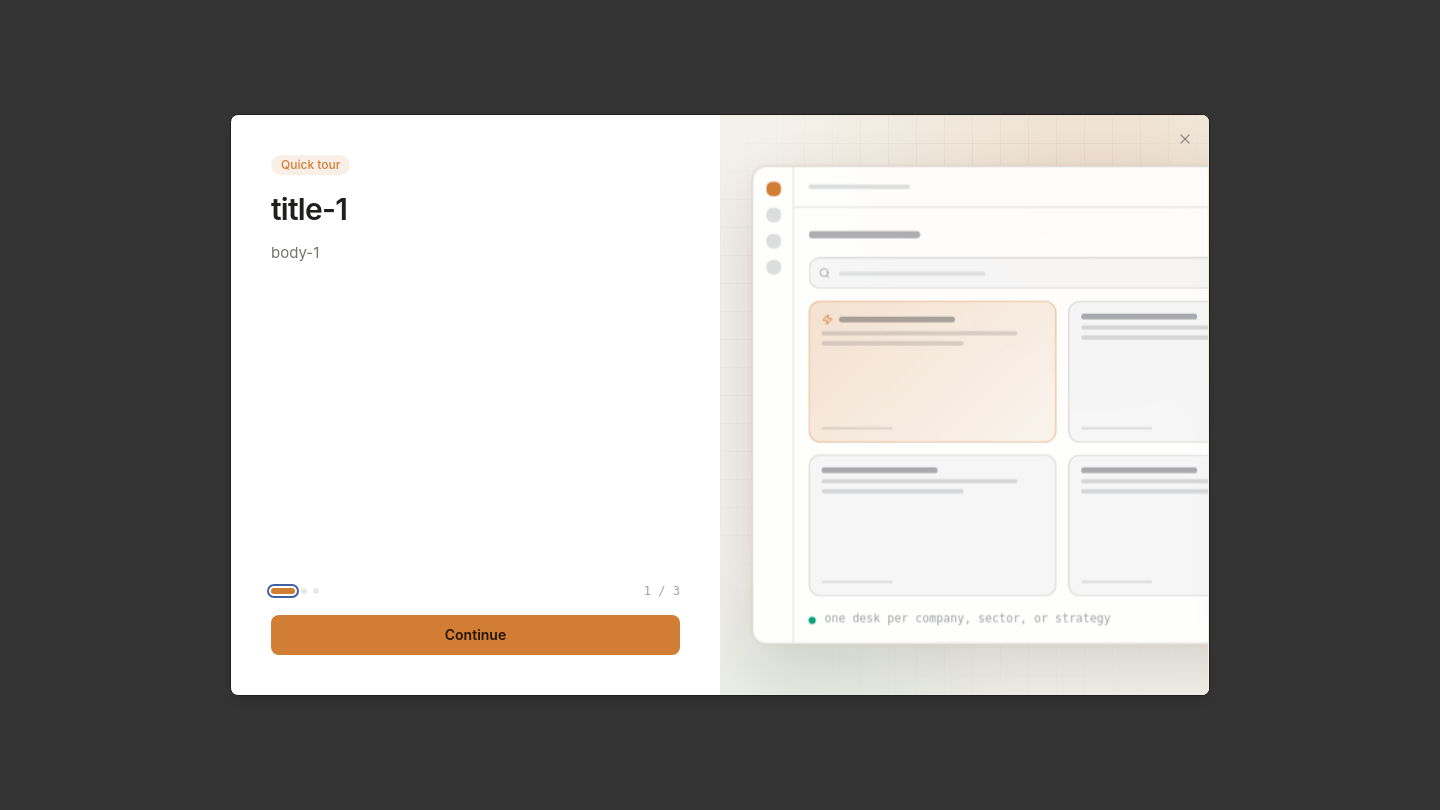
Test: PageIntroModal › Continue advances through steps and Back returns
Click the button "Continue": (476, 635) [271, 615, 680, 655]
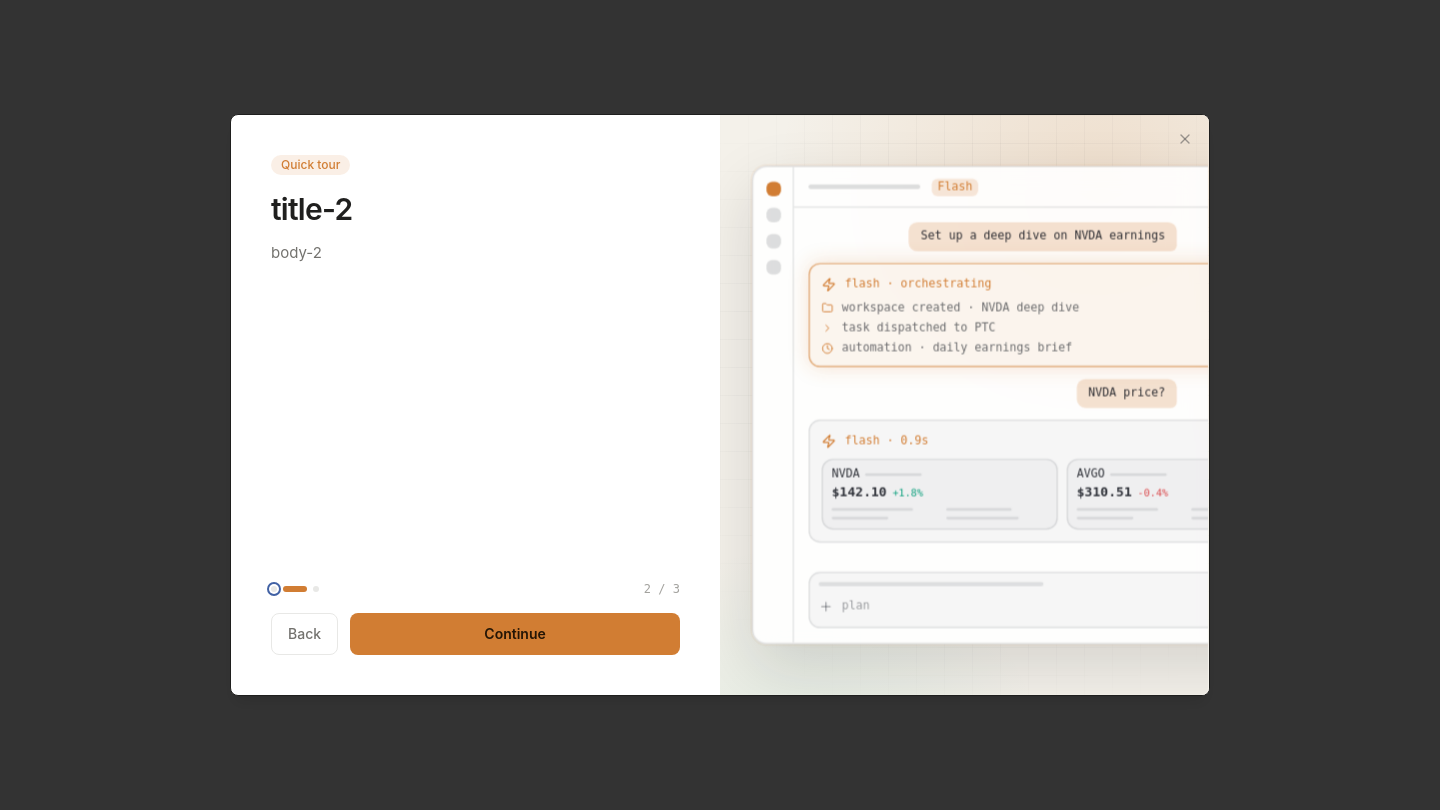
Result: the heading "title-2" is shown at [271, 191, 352, 227]
Result: the text "2 / 3" is shown at [644, 581, 680, 597]
Click the button "Back": (305, 634) [271, 613, 338, 655]
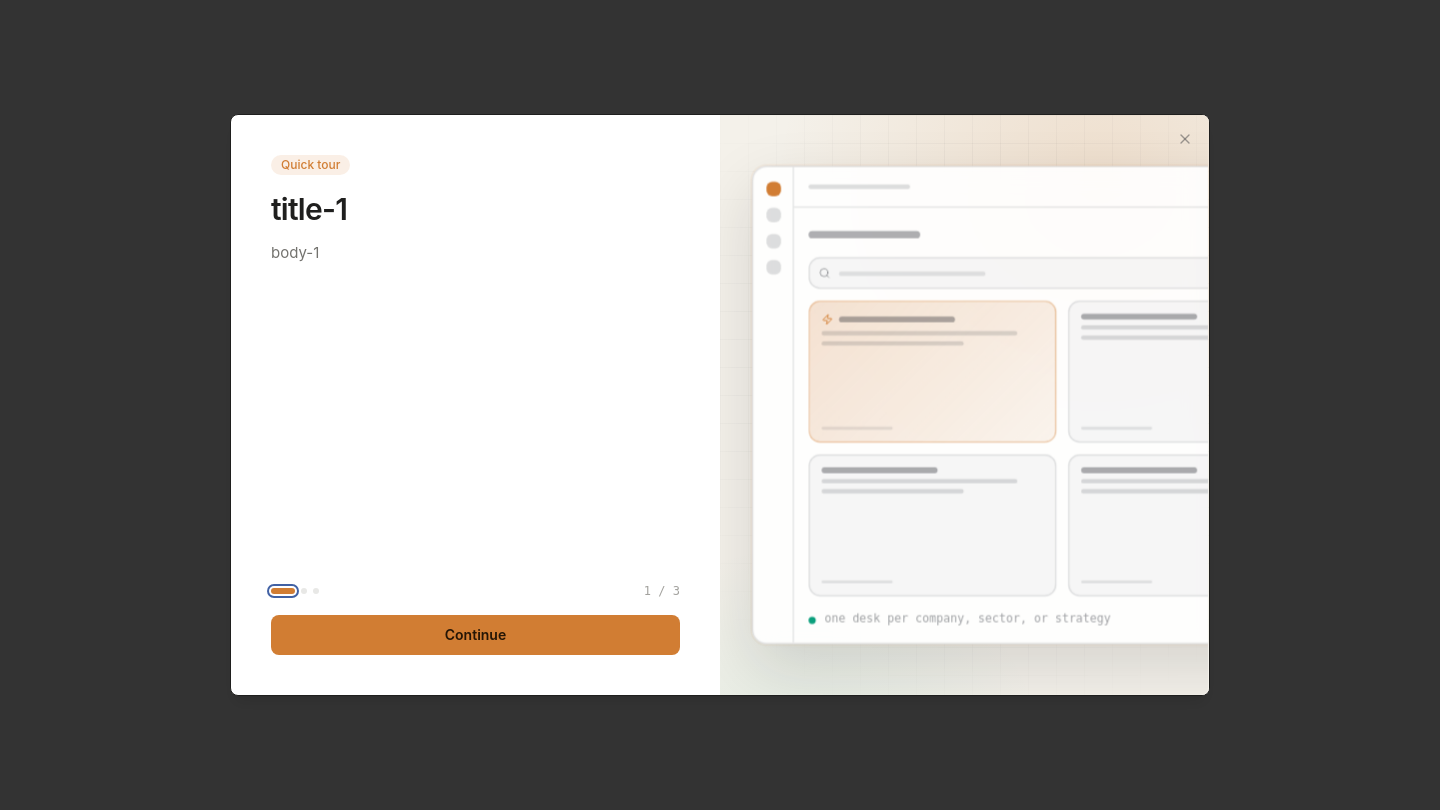
Result: the heading "title-1" is shown at [271, 191, 347, 227]
